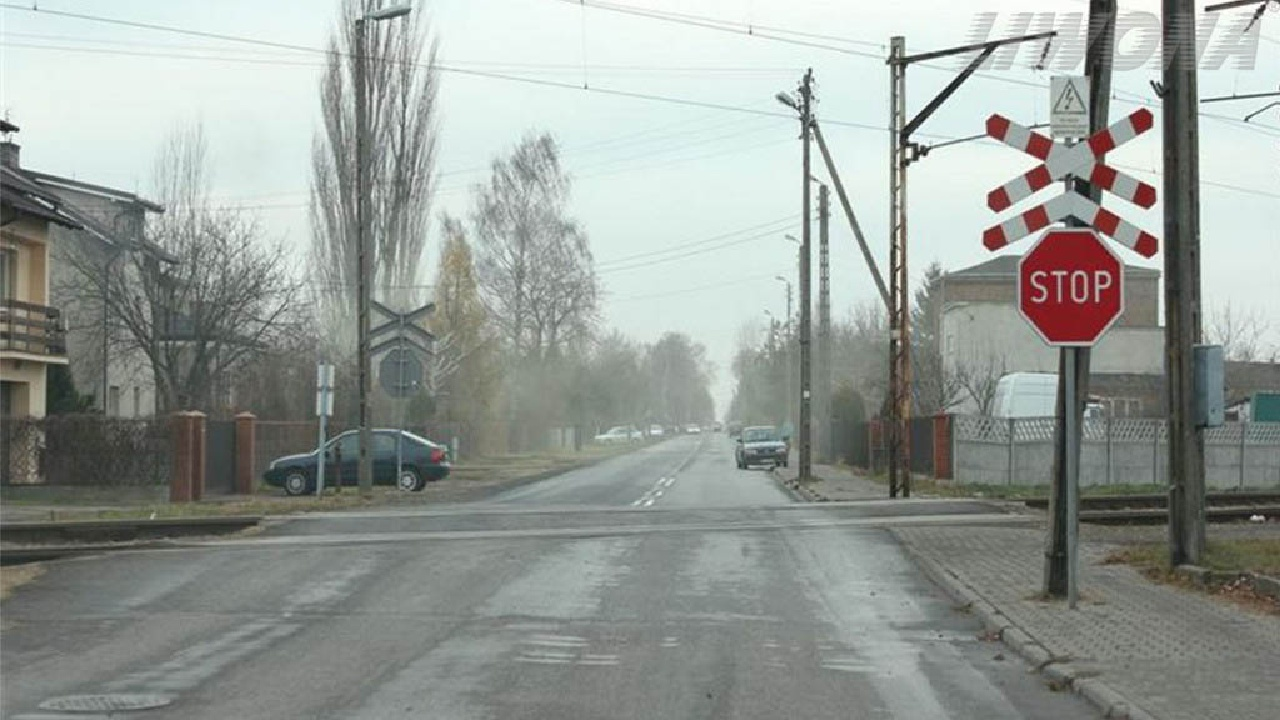B20: (1016, 225, 1125, 347)
